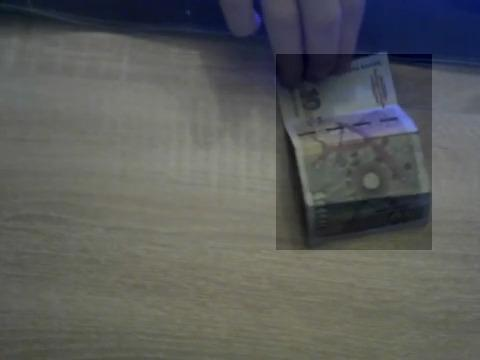10leva: (276, 54, 432, 250)
